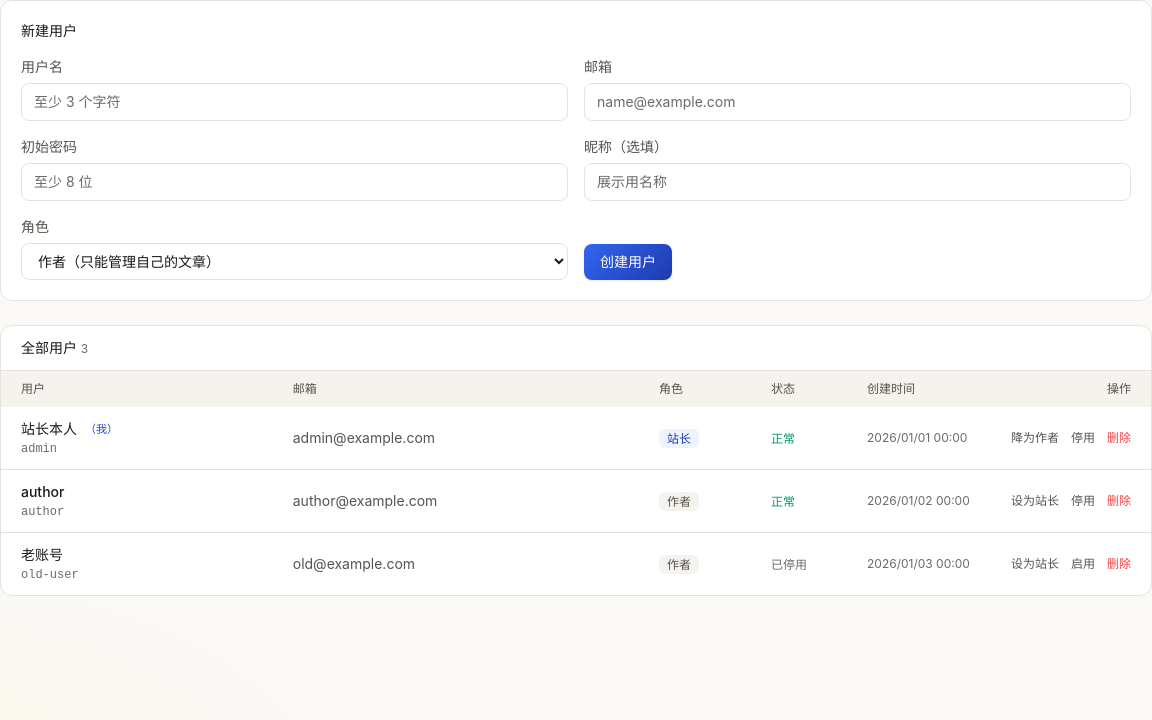
Scenario: UsersView · 角色与状态变更 › 点「启用」提交 is_active=true，提示「已启用」
What coordinates should you click on to do the following:
click the button "启用"
I would click on:
 (1083, 564)
Its box is [1071,556,1095,572].
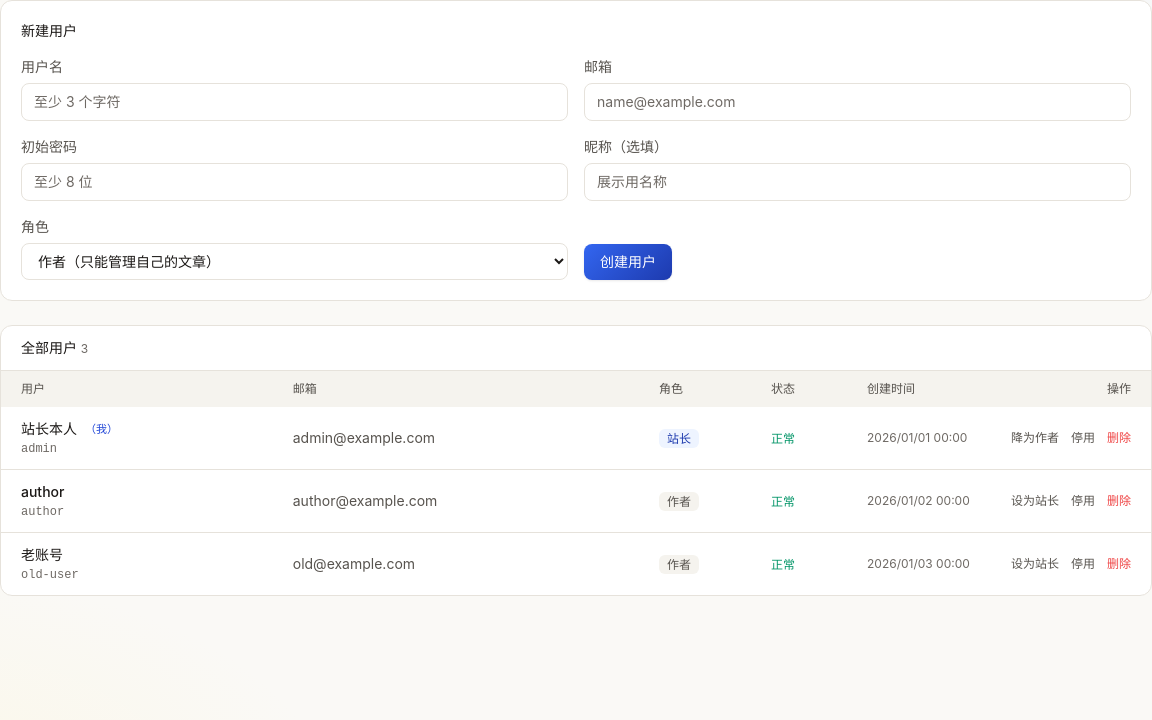
expect the row that starts with "老账号" shows "正常": met, box [771,557,795,572]
